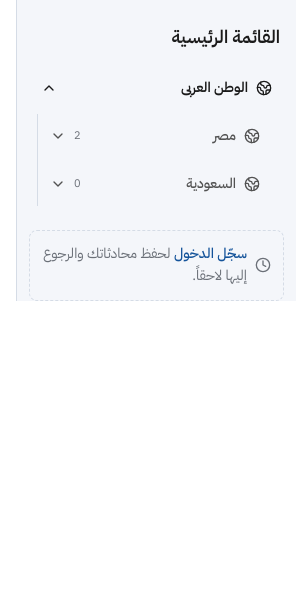
MainSidebar › فشل جلب الأدلة يُظهر رسالة خطأ داخل القائمة دون كسر بقية الشجرة
Click the button "مصر 2". click: (155, 136)
box: x1=38 y1=114 x2=272 y2=158
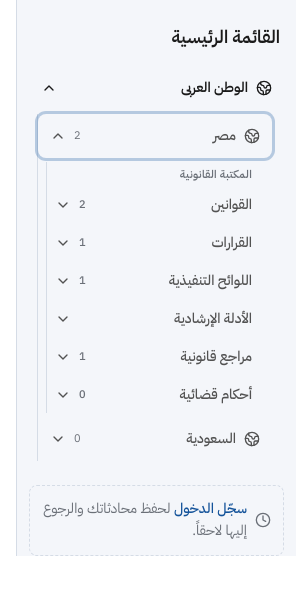
Click the button "الأدلة الإرشادية". click: (154, 319)
box: x1=47 y1=301 x2=260 y2=337
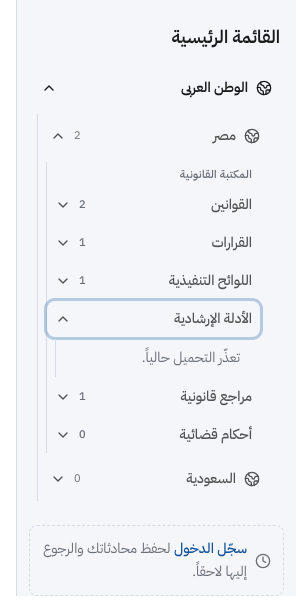
Check: the button "القوانين 2" is shown, box x1=47 y1=187 x2=260 y2=223
Check: the text "تعذّر التحميل حالياً." is shown, box x1=142 y1=347 x2=240 y2=368
